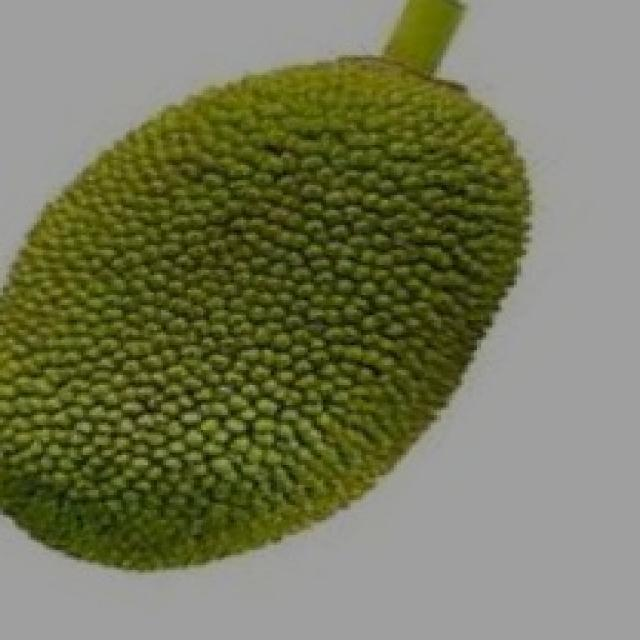Fruit: (3, 42, 415, 418), (0, 235, 409, 597), (228, 27, 575, 435)
